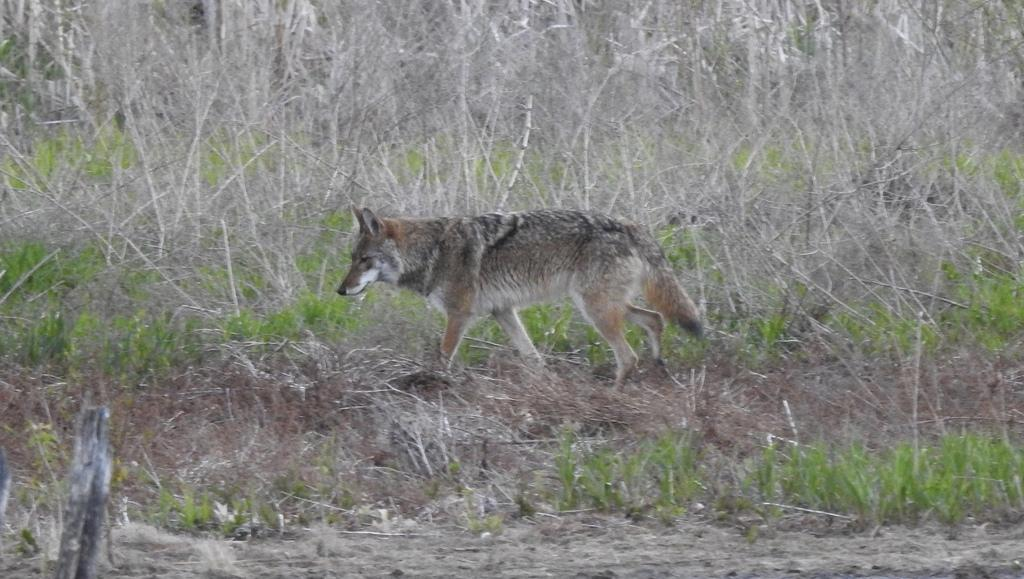Coyote: (333, 204, 720, 389)
